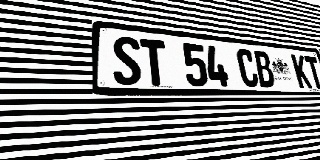4: (204, 45, 230, 87)
5: (182, 43, 209, 86)
B: (252, 50, 276, 88)
C: (235, 48, 260, 87)
K: (291, 54, 312, 88)
S: (112, 35, 142, 85)
T: (140, 38, 169, 86), (304, 56, 320, 88)
